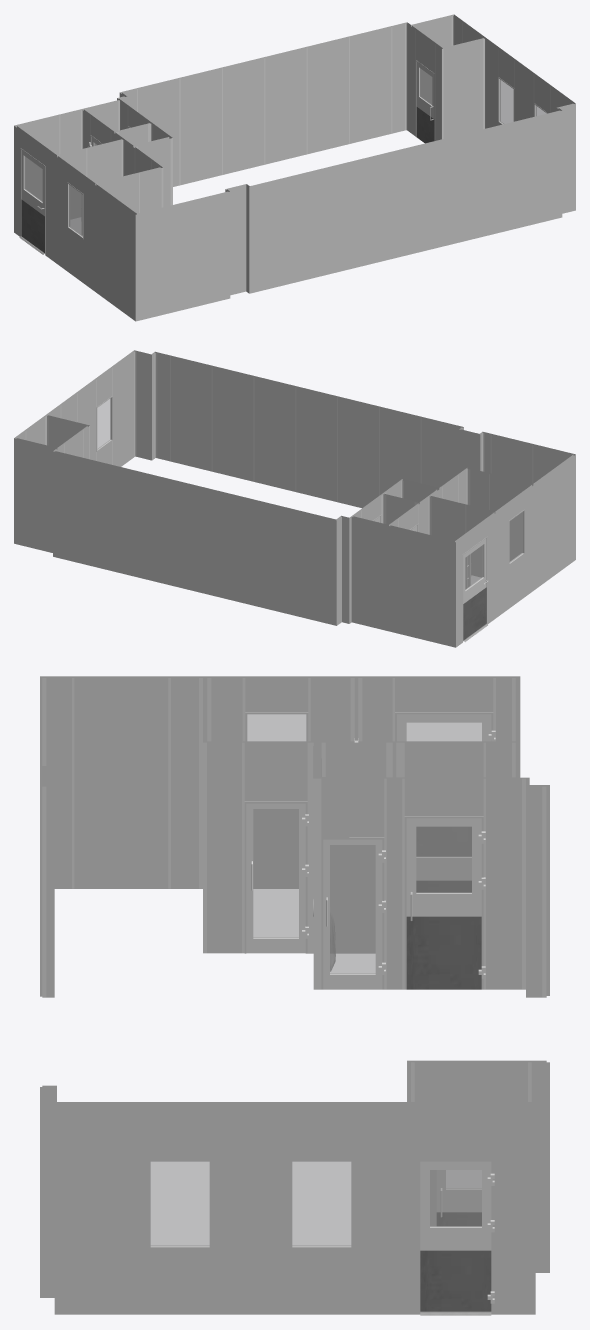
File: final doors and walls.fbx
3 views of the same model, one above another, from view 1: azimuth 30°, elevation 25°; view 2: azimuth 150°, elevation 25°; view 3: azimuth 270°, elevation 25° (orthographic). The views are drawn at different scales.
Parts seen in each view (by area): view 1: walls, Plane.041, door 1, door 8, door 2; view 2: walls, Plane.041, door 1, door 2; view 3: walls, Plane.041, door 7, door 9, door 3, door 6, door 1, door 4, door 8.
Part boxes in pixels (x1,y1,x2,y2): walls: (14, 14, 575, 321); Plane.041: (17, 15, 572, 212); door 1: (21, 150, 44, 253); door 8: (416, 62, 434, 143); door 2: (70, 186, 82, 235); walls: (14, 350, 575, 647); Plane.041: (17, 351, 572, 589); door 1: (463, 538, 486, 640); door 2: (467, 546, 481, 587); walls: (40, 676, 549, 1314); Plane.041: (42, 678, 546, 1101); door 7: (406, 818, 481, 989); door 9: (420, 1161, 491, 1311); door 3: (246, 803, 305, 953); door 6: (323, 839, 382, 989); door 1: (397, 714, 491, 856); door 4: (416, 827, 471, 892); door 8: (436, 1170, 481, 1226).
Bounding box in the file's own units: 1320 × 300 × 658.
